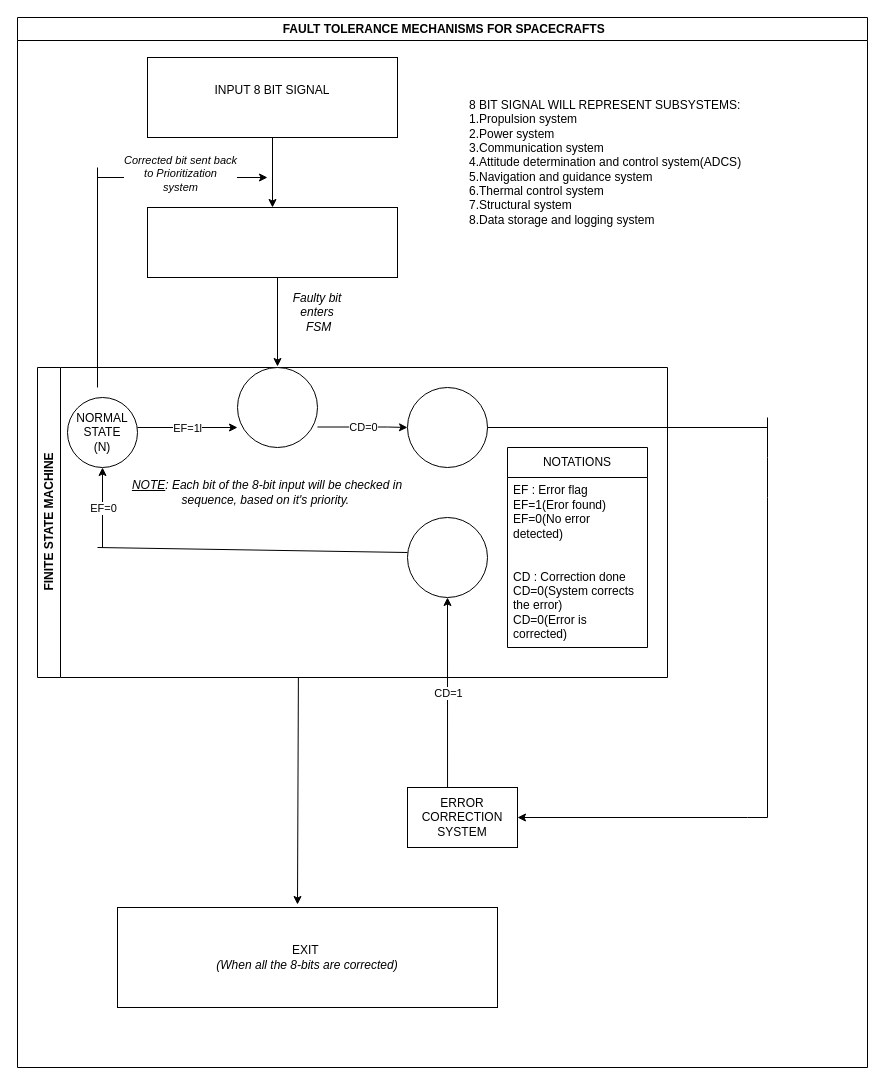
Some shapes in this 885 by 1085 pixel diagram are drawn without their labels. The centre of each missing label's shape, as x and y in pixels:
"ERROR CORRECTION STATE (EC)" belongs at (x=447, y=427).
"ERROR DETECTED STATE (ED)" belongs at (x=277, y=407).
"PRIORITIZATION SYSTEM (Based on 4 bit input value)" belongs at (x=272, y=242).
"RECOVERY STATE (REC)" belongs at (x=447, y=557).
